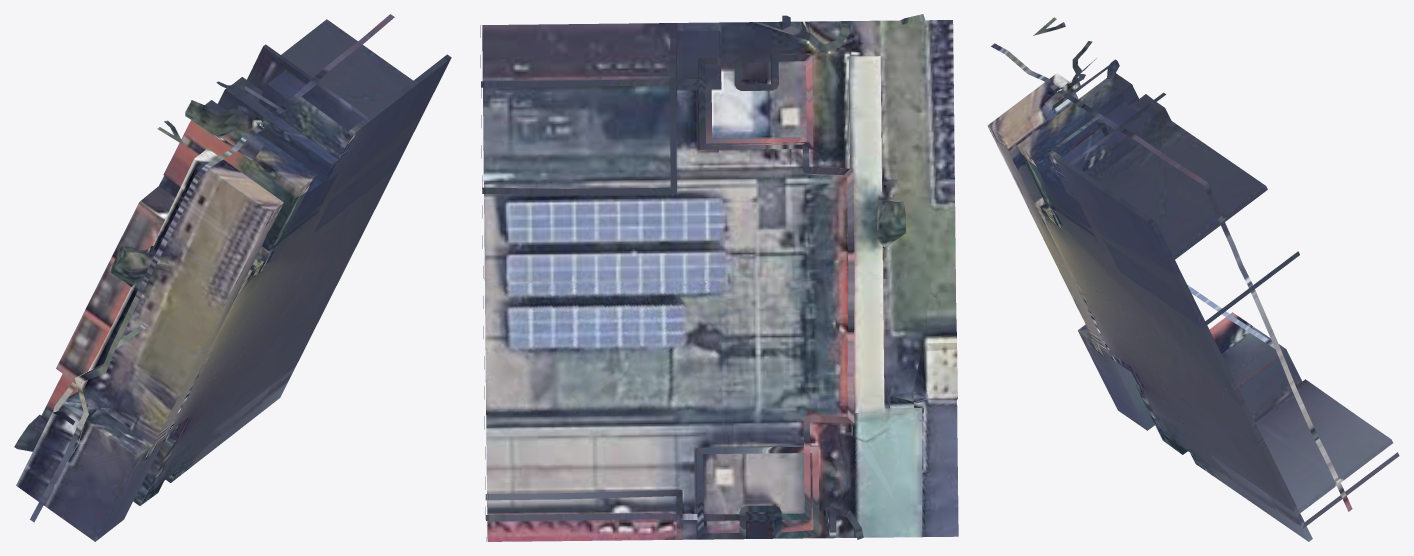
3 views of the same model, side by side, from view 1: azimuth 30°, elevation 25°; view 2: azimuth 150°, elevation 25°; view 3: azimuth 270°, elevation 25° (orthographic). The views are drawn at different scales.
Size of the model in its own units: 40.37 by 39.54 by 35.99.
2 materials, 2 textured.
